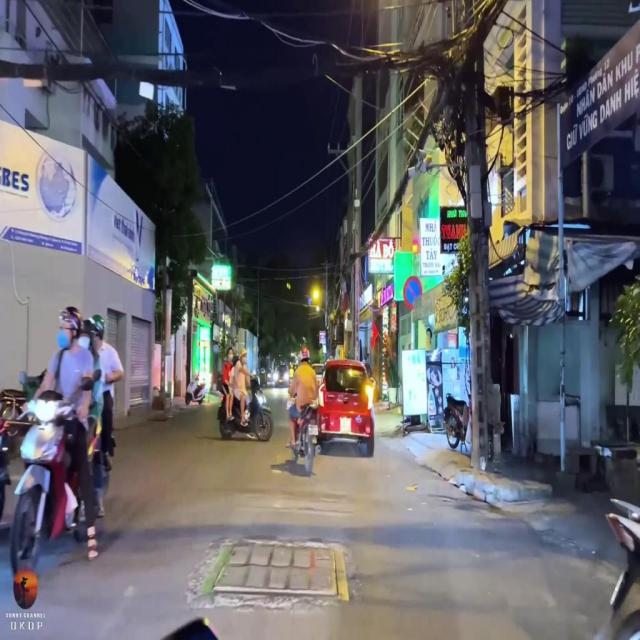cam_do_xe: (403, 274, 423, 310)
